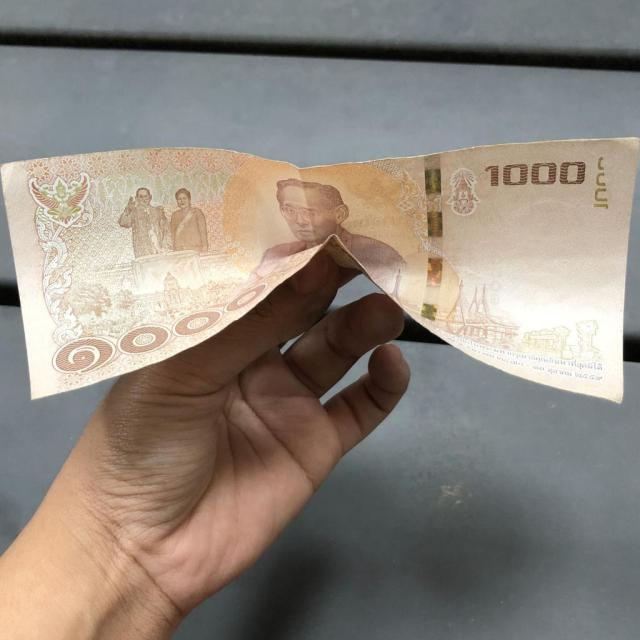THAI1000: (0, 138, 639, 401)
